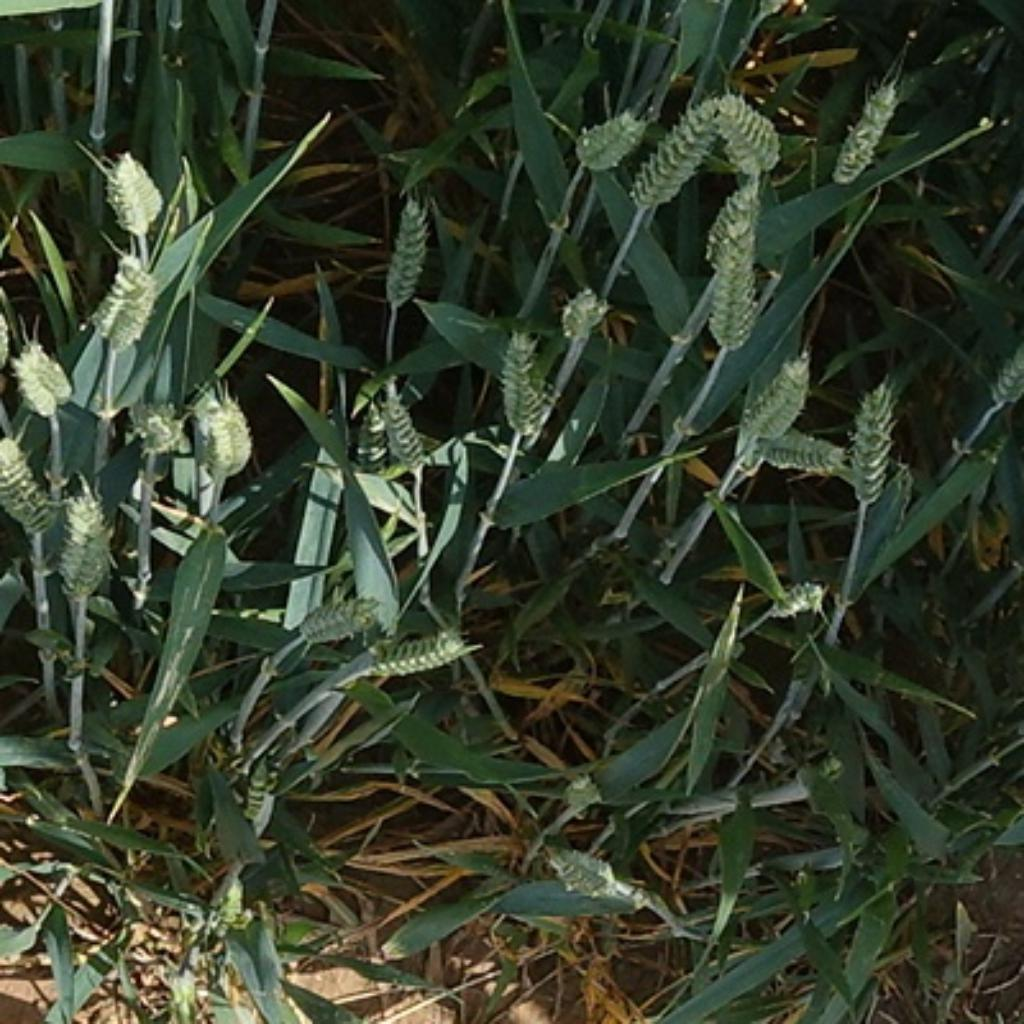0-0: (624, 97, 727, 202), (824, 69, 911, 184), (43, 476, 120, 604), (337, 386, 435, 481), (711, 202, 770, 355), (732, 350, 821, 448), (842, 373, 906, 501), (483, 327, 558, 435), (688, 171, 783, 253), (732, 407, 849, 473), (378, 184, 435, 312), (186, 386, 258, 478), (95, 146, 169, 235), (565, 99, 650, 174), (355, 624, 473, 678), (93, 257, 160, 350), (709, 97, 788, 174), (2, 432, 58, 537), (5, 337, 74, 412), (548, 847, 635, 902), (297, 592, 384, 644), (755, 570, 842, 622), (120, 394, 194, 455), (550, 279, 616, 345), (204, 874, 261, 946), (241, 761, 279, 823), (988, 348, 1024, 406), (560, 775, 606, 810)
